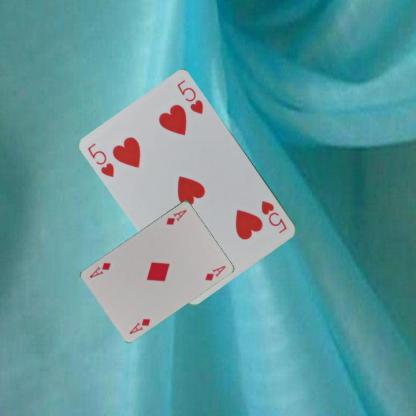5h: (85, 141, 116, 179), (259, 198, 289, 235)
Ad: (126, 316, 152, 335), (163, 207, 188, 226)
